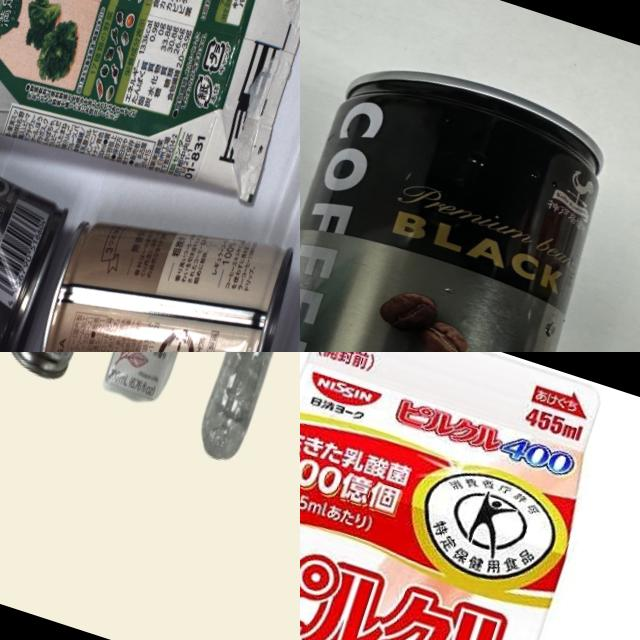Aluminium Foil: (300, 352, 619, 640), (0, 0, 300, 217), (99, 352, 239, 405)
Can: (300, 41, 637, 352), (16, 183, 300, 352), (0, 123, 71, 352)
Transparent Plastic Bottle: (189, 352, 300, 467)
